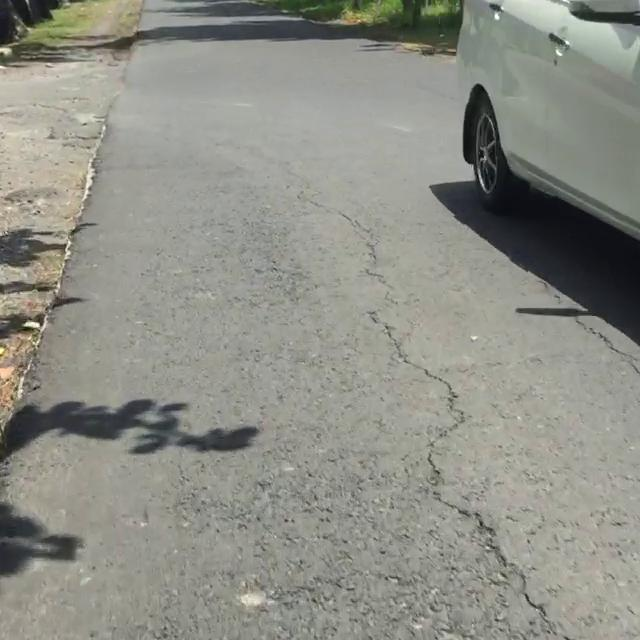retak_memanjang: (325, 191, 577, 640)
